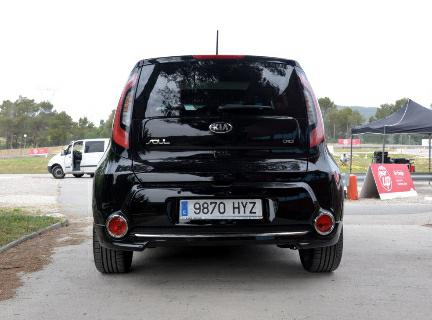起亚-Soul: (84, 50, 349, 280)
